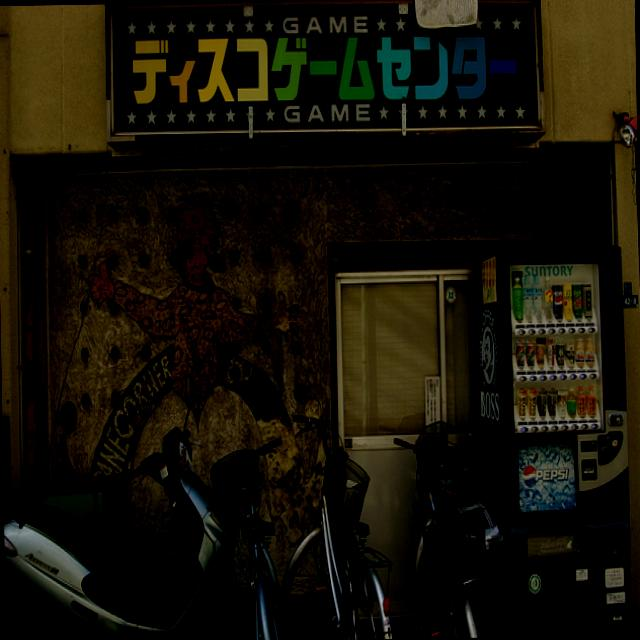Vehicle: (1, 376, 250, 640)
